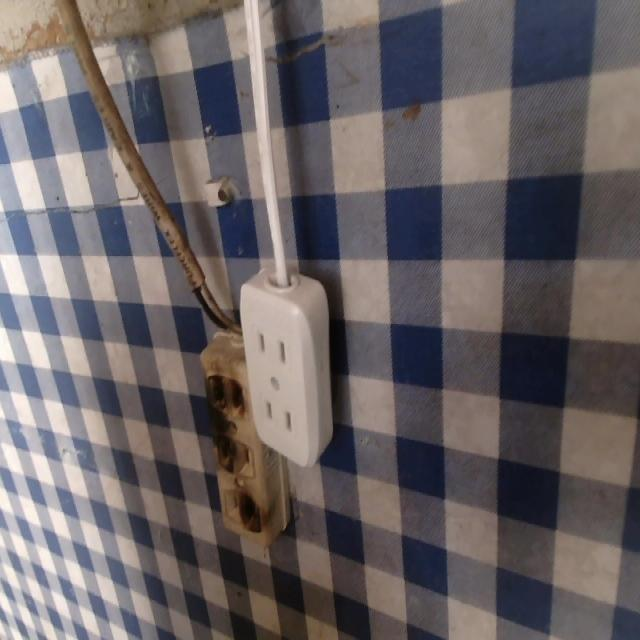-: (203, 360, 256, 424), (233, 481, 268, 543), (209, 421, 237, 484)
